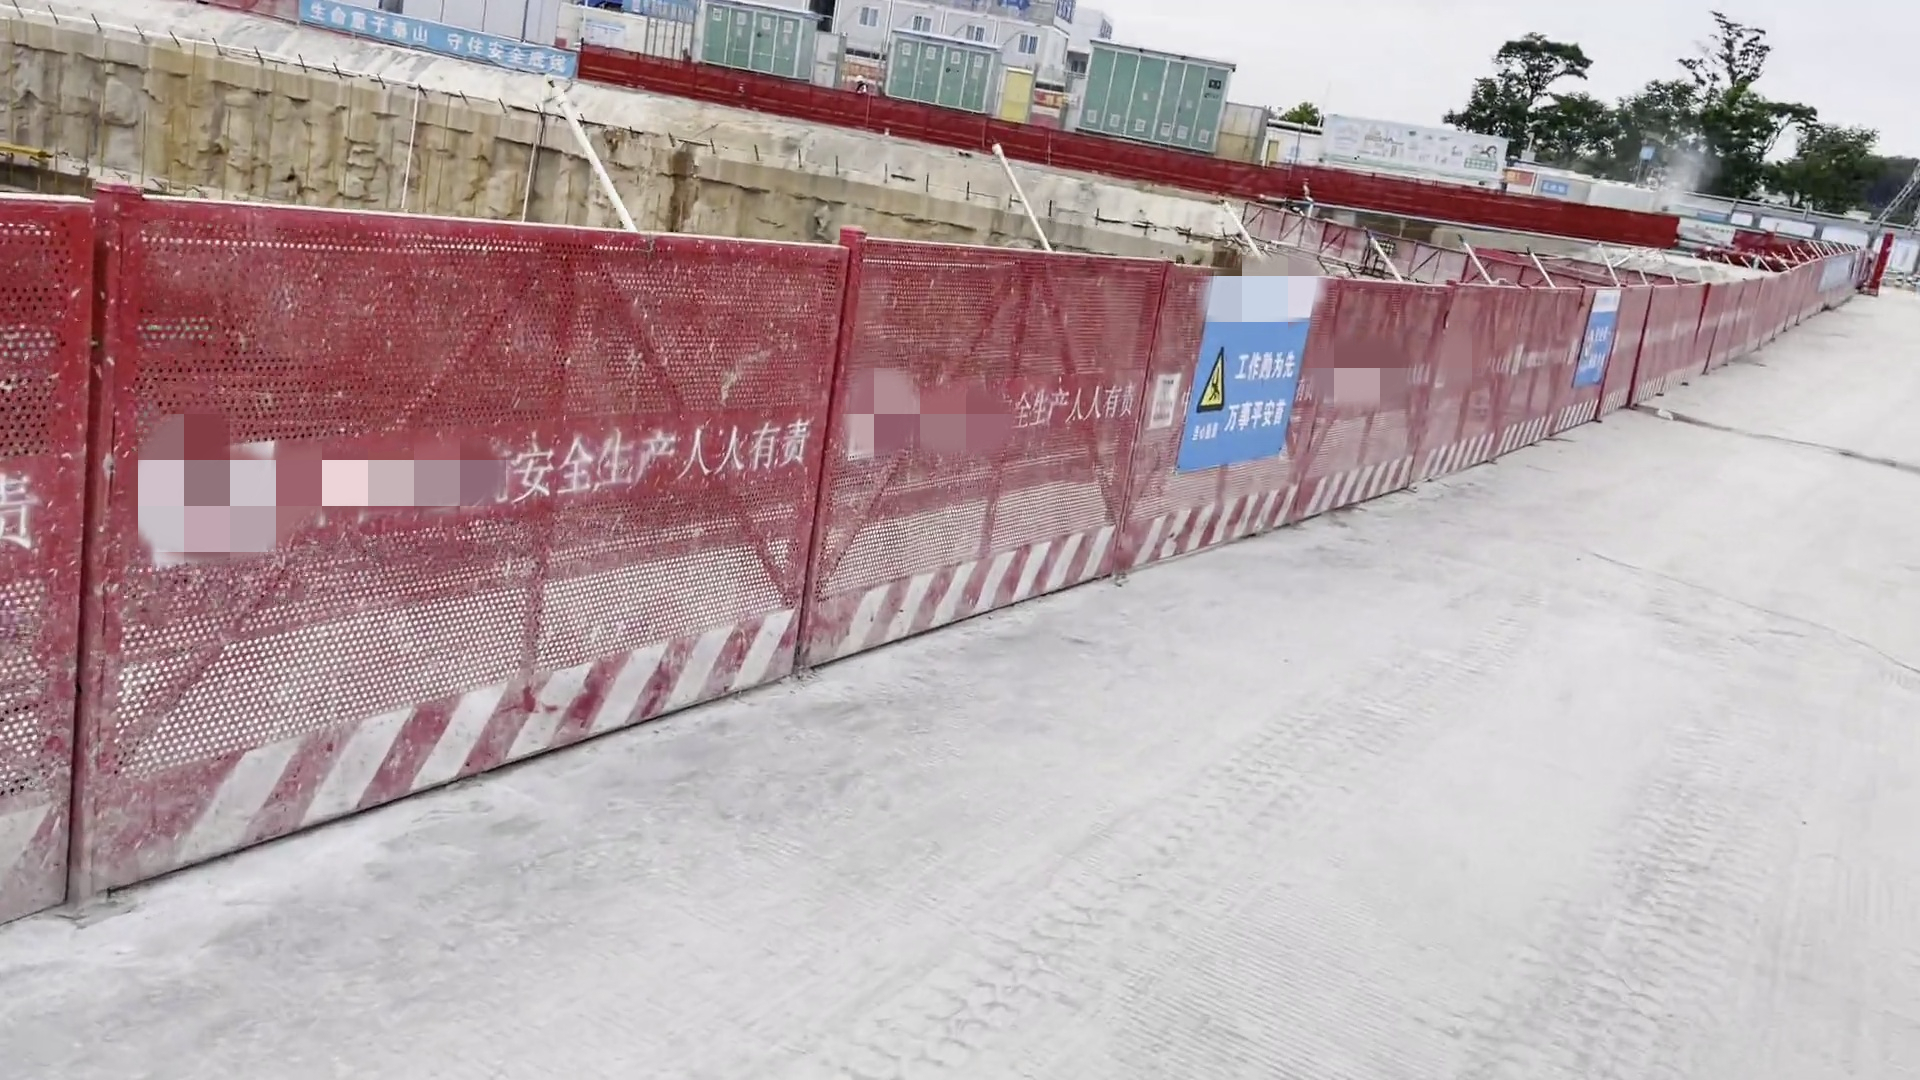fence: (3, 241, 1880, 930), (206, 1, 1874, 264)
slogan: (496, 419, 799, 501), (298, 5, 576, 79), (1022, 382, 1137, 433)
